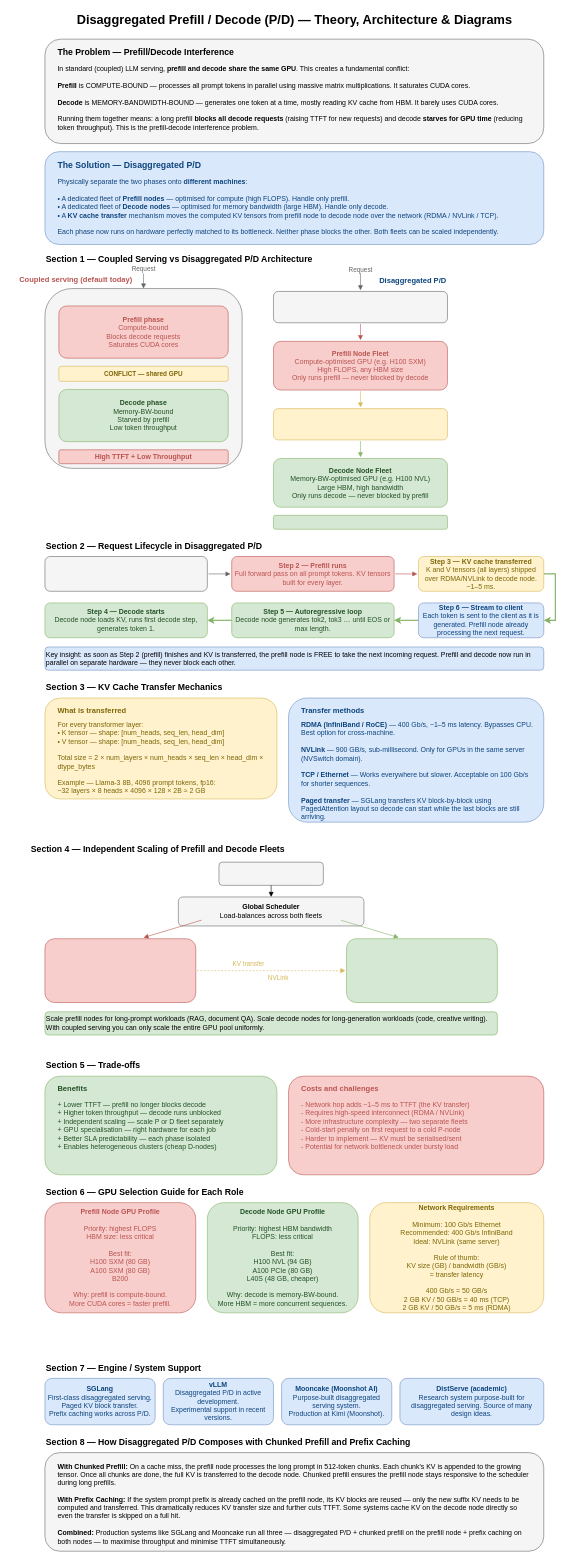
This 570x1561 diagram has some shape labels left out. The shapes that lost their labels are listed below. From the top down, each one's box as (x1, y1, x2, y2) in pixels, then its label:
(273, 291, 447, 323): Scheduler / Router Routes to free prefill node
(44, 288, 242, 468): Single GPU node
(273, 408, 447, 440): KV Cache Transfer RDMA / NVLink / TCP — 1 to 5 ms on 400 Gb/s
(273, 515, 447, 529): Low TTFT + High Throughput
(44, 556, 207, 591): Step 1 — Request arrives Scheduler selects a free prefill node from the fleet
(218, 862, 323, 885): Client requests
(44, 938, 196, 1003): Prefill Fleet P-node 1 P-node 2 P-node 3 P-node N (scale up for long prompts)
(346, 938, 497, 1003): Decode Fleet D-node 1 D-node 2 D-node 3 D-node M (scale up for long outputs)
